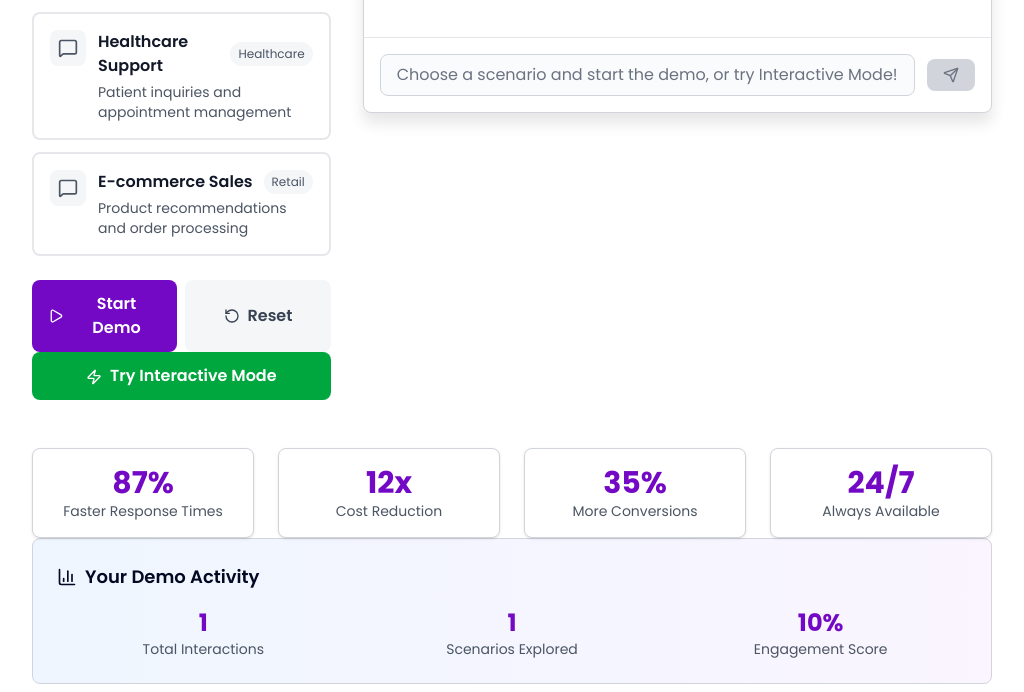
it: SmartAssistantDemo › starts demo when Start Demo button is clicked
The width and height of the screenshot is (1024, 692).
(page scrolled)
What coordinates should you click on to do the following:
click the button "Start Demo"
I would click on:
 (105, 316)
Its box is [32,280,177,352].
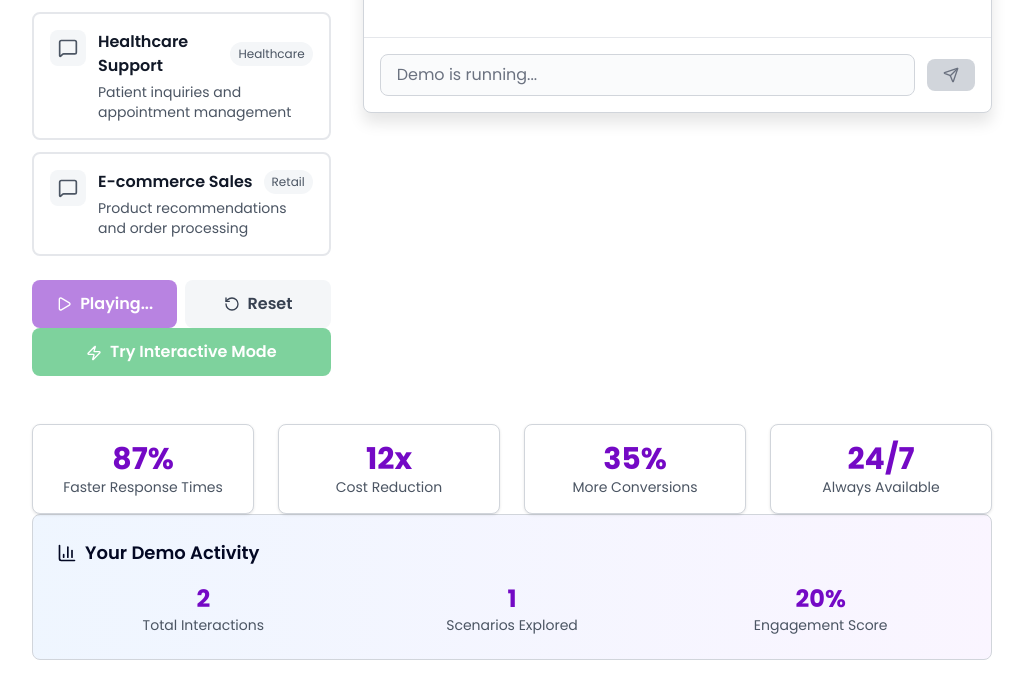
Expected: the button "Playing..." is shown, [32,280,177,328]
